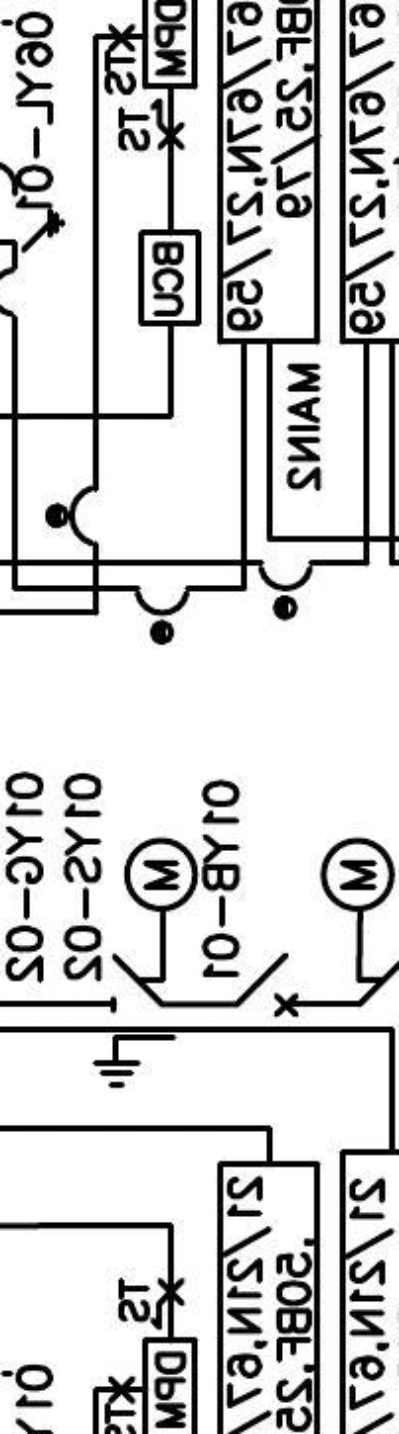115_3ways_ds_w_motor: (92, 836, 200, 1089)
115_breaker: (234, 952, 299, 1018)
BCU: (137, 228, 203, 328)
